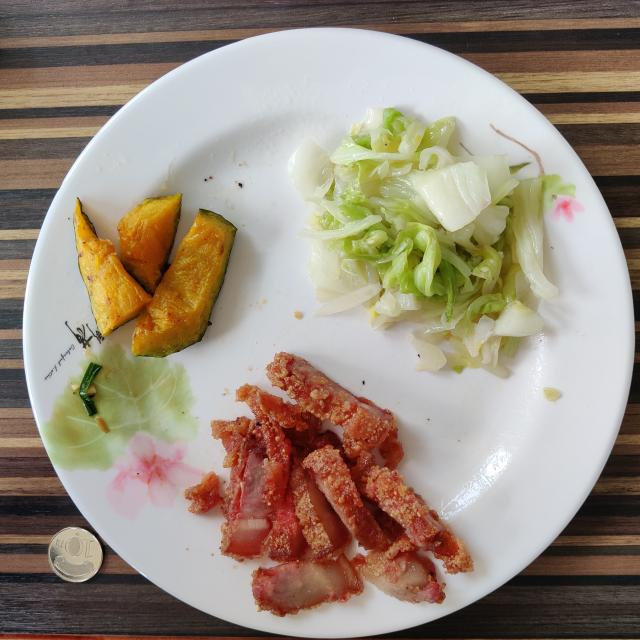cabbage: (289, 108, 574, 378)
coin: (48, 528, 102, 582)
pumpkin: (74, 194, 236, 358)
red grilled pork: (185, 352, 472, 616)
